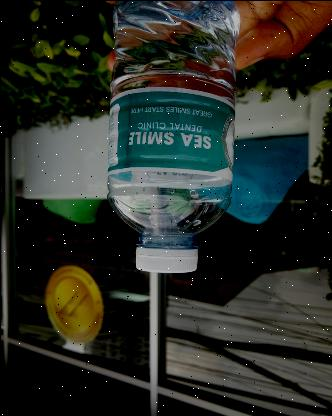Plastic Bottle: (106, 0, 238, 272)
